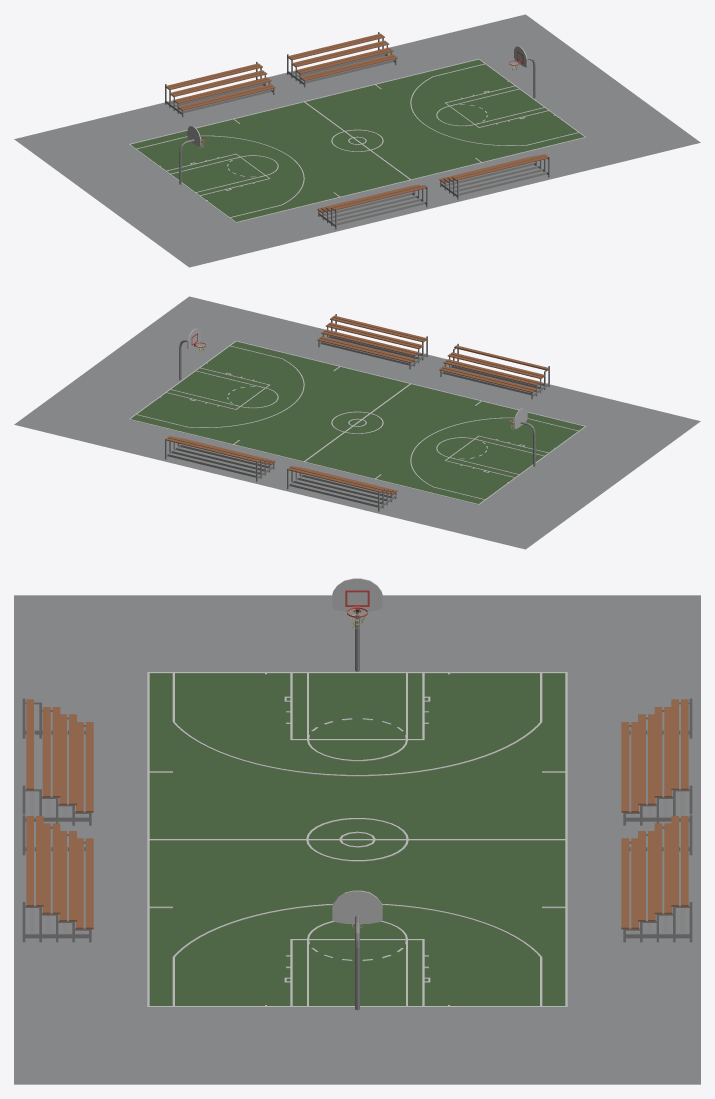
The model's file is ManBuddy.fbx.
3 renders of one model, top to bottom at view 1: azimuth 30°, elevation 25°; view 2: azimuth 150°, elevation 25°; view 3: azimuth 270°, elevation 25°, orthographic. The views are drawn at different scales.
Visible parts, largest first — view 1: Basketball Terrain; view 2: Basketball Terrain; view 3: Basketball Terrain.
Part boxes in pixels (left/top/right/bottom): Basketball Terrain: left=14, top=14, right=700, bottom=267; Basketball Terrain: left=14, top=296, right=700, bottom=549; Basketball Terrain: left=14, top=578, right=700, bottom=1084.
Size of the model in its own units: 4194 by 421 by 2489.
